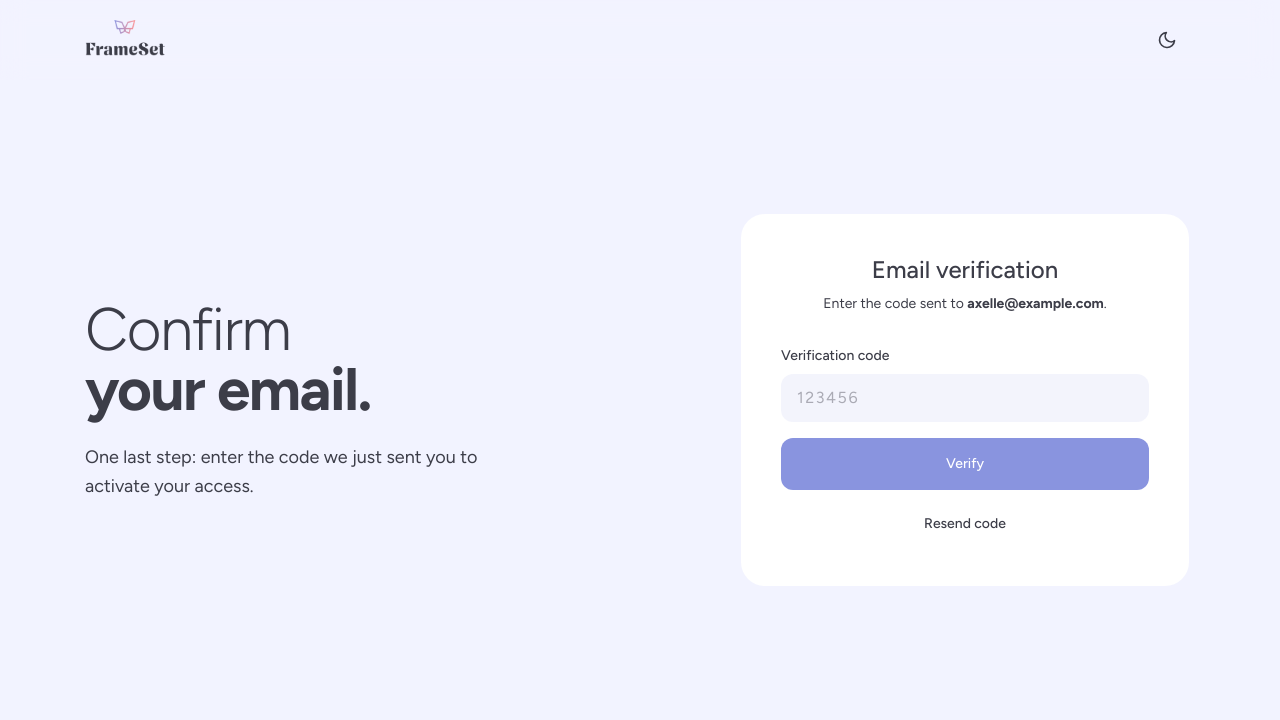
Test: Verify › surfaces a resend failure, rate-limit delay included
The width and height of the screenshot is (1280, 720).
Click the button "Resend code".
click(965, 524)  # box [781,502,1149,546]
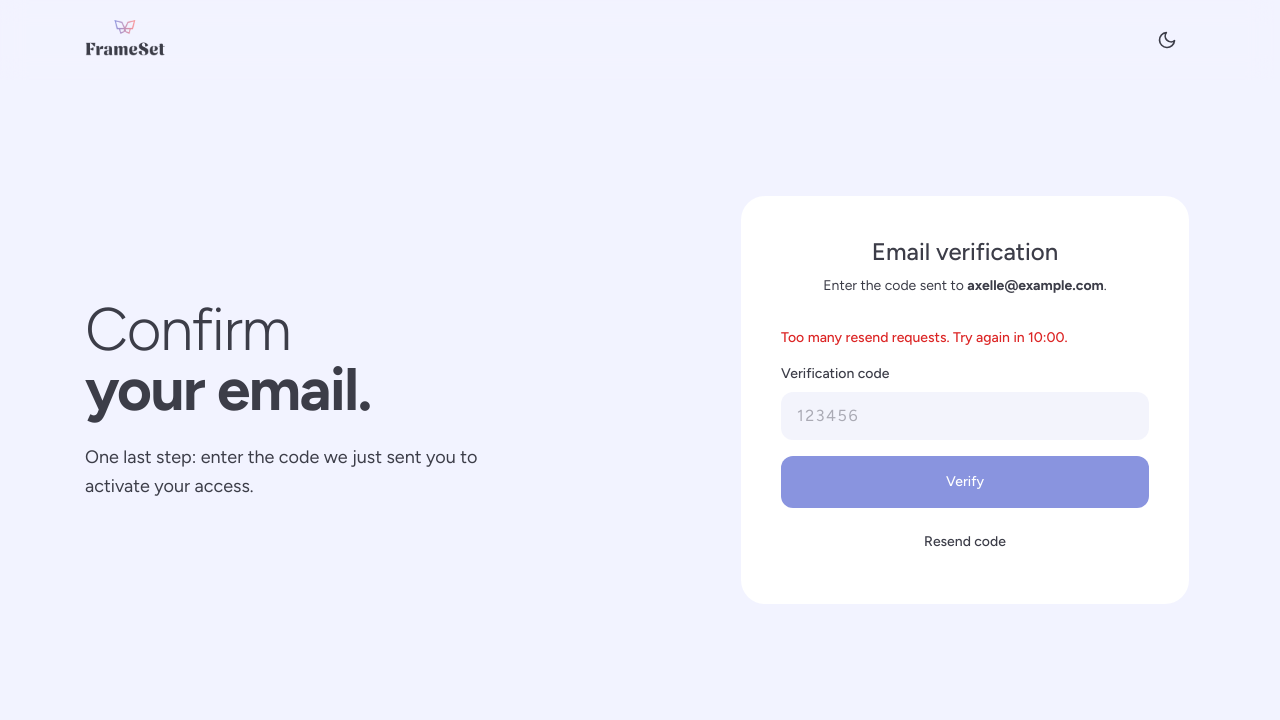
Check: the text "Too many resend requests. Try again in 10:00." is shown, box [781,329,1068,346]
